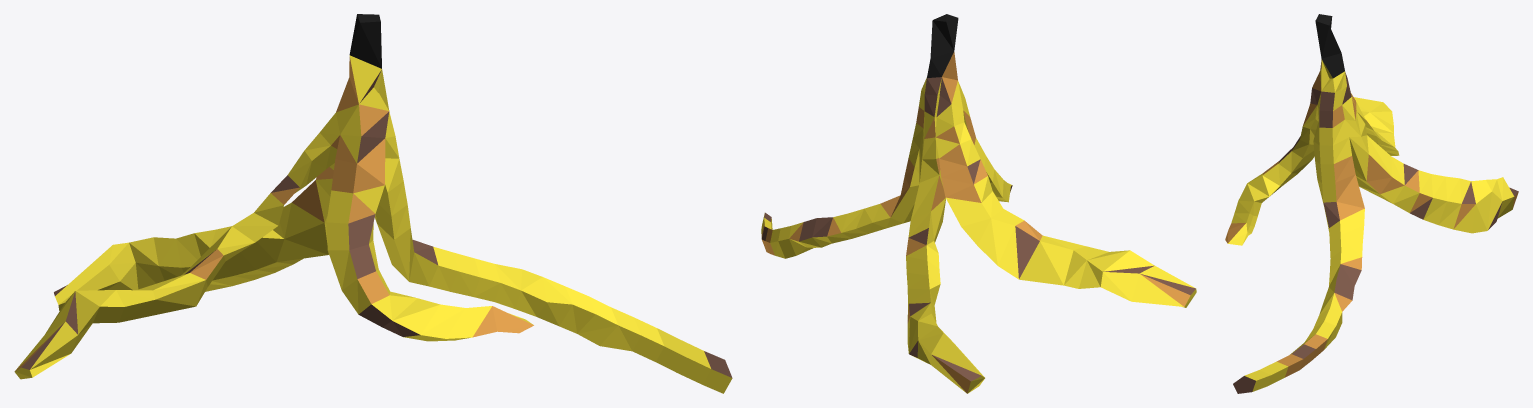
File: peelbanana.fbx
The picture shows the model from 3 angles, left to right: view 1: azimuth 30°, elevation 25°; view 2: azimuth 150°, elevation 25°; view 3: azimuth 270°, elevation 25°; orthographic projection. The views are drawn at different scales.
Visible parts, largest first — view 1: group645389299; view 2: group645389299; view 3: group645389299.
Boxes of the visible parts, x1=… form: group645389299: x1=14, y1=14, x2=732, y2=393; group645389299: x1=761, y1=14, x2=1196, y2=393; group645389299: x1=1225, y1=14, x2=1518, y2=393.
Size of the model in its own units: 142 by 86.16 by 82.64.
